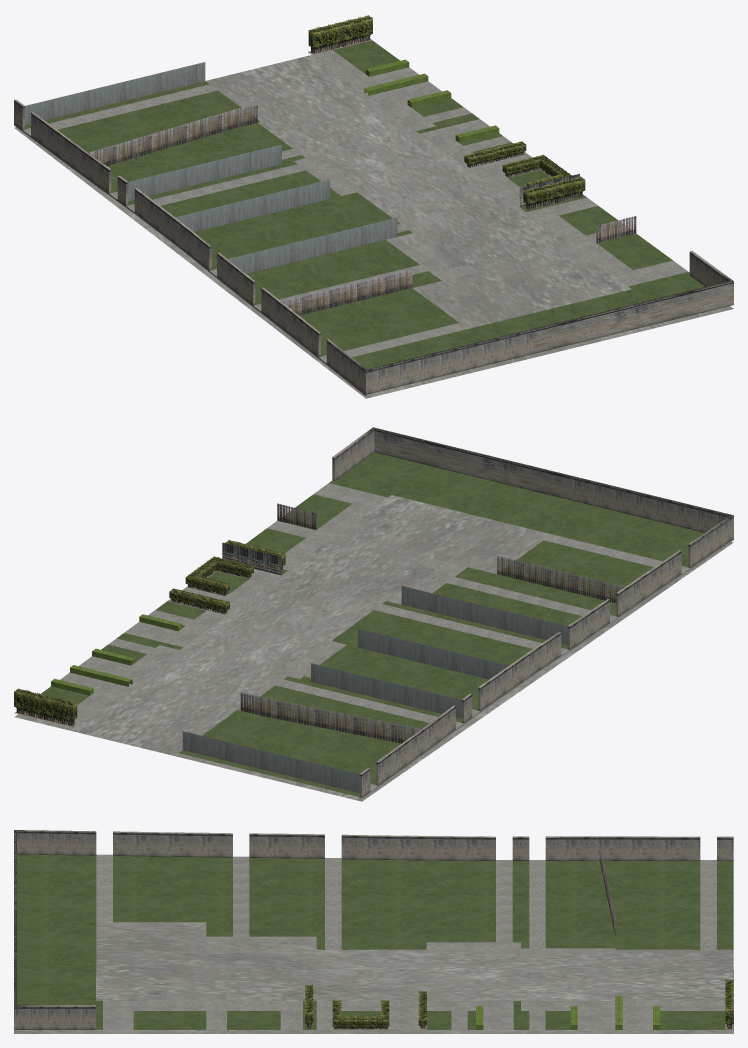
The model's file is oc_flats_gnd17_sfs.obj.
3 renders of one model, top to bottom at view 1: azimuth 30°, elevation 25°; view 2: azimuth 150°, elevation 25°; view 3: azimuth 270°, elevation 25°, orthographic.
Visible parts, largest first — view 1: OC_FLATS_GND17_SFS; view 2: OC_FLATS_GND17_SFS; view 3: OC_FLATS_GND17_SFS.
Boxes of the visible parts, bbox=[...] form: OC_FLATS_GND17_SFS: bbox=[14, 15, 733, 398]; OC_FLATS_GND17_SFS: bbox=[14, 427, 733, 801]; OC_FLATS_GND17_SFS: bbox=[14, 830, 733, 1033].
Bounding box in the file's own units: 38.02 × 2.74 × 65.39.
Materials: 9 (9 with a texture image).
